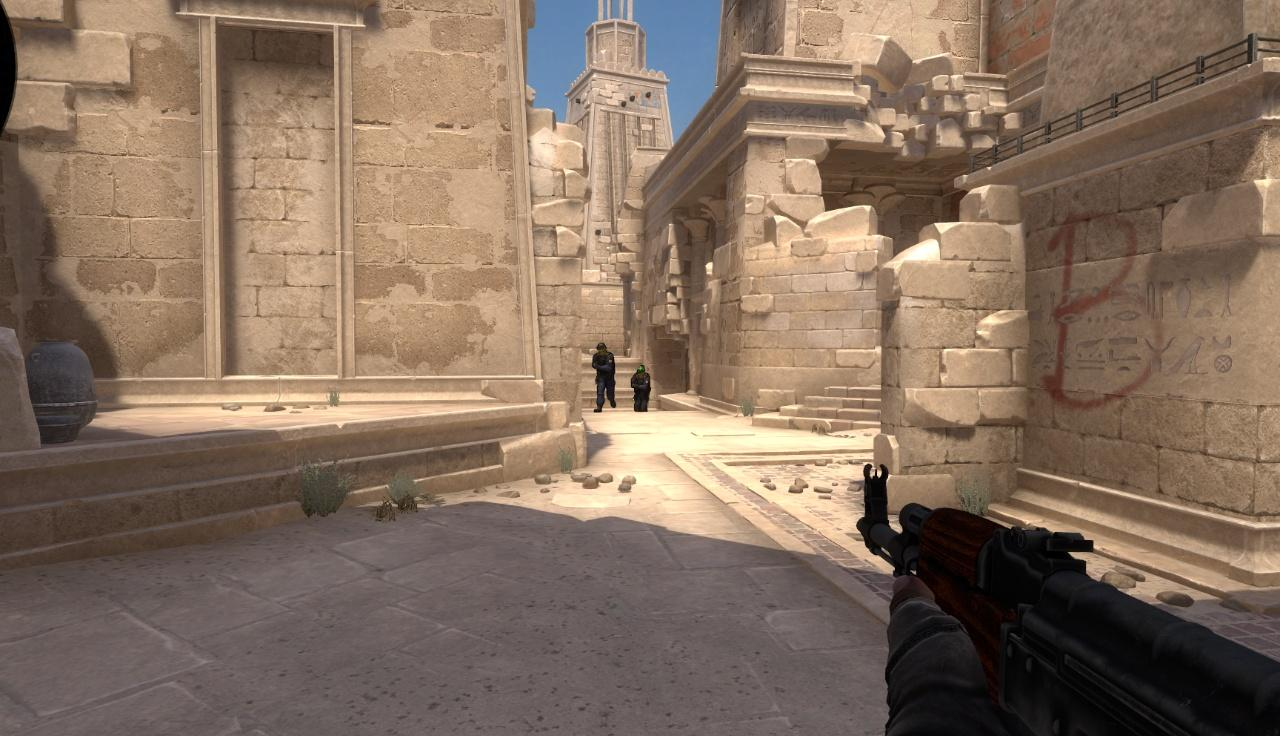ct: (592, 343, 616, 413), (631, 365, 650, 412)
cthead: (597, 343, 606, 355), (637, 366, 644, 379)
rifle: (857, 464, 1280, 736)
